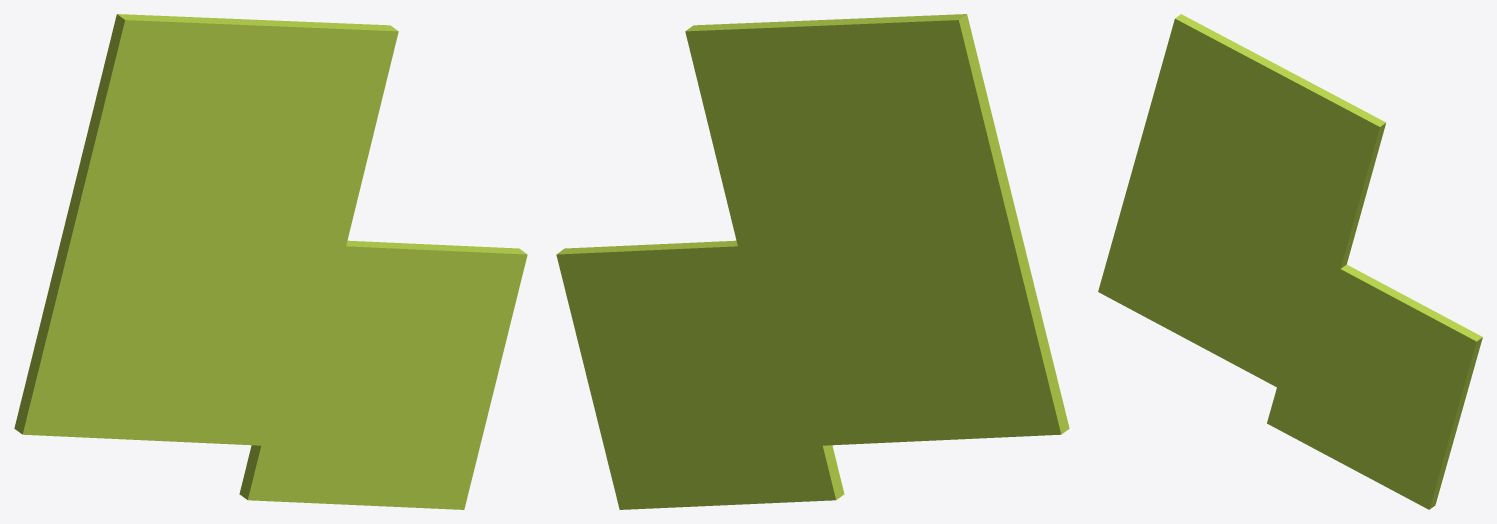
The picture shows the model from 3 angles, left to right: view 1: azimuth 30°, elevation 25°; view 2: azimuth 150°, elevation 25°; view 3: azimuth 330°, elevation 25°; orthographic projection. The views are drawn at different scales.
Parts seen in each view (by area): view 1: osm-way27917482-F3; view 2: osm-way27917482-F3; view 3: osm-way27917482-F3.
Boxes of the visible parts, <box> form: osm-way27917482-F3: <box>14,14,527,509</box>; osm-way27917482-F3: <box>556,14,1069,509</box>; osm-way27917482-F3: <box>1098,14,1482,509</box>.
Size of the model in its own units: 5.26 by 5.7 by 0.15.
